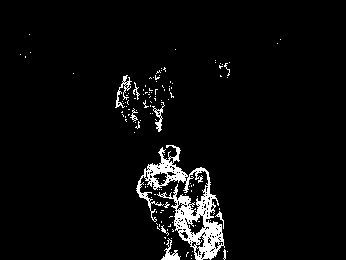person: (133, 145, 182, 259), (177, 166, 227, 260), (143, 66, 172, 132), (116, 74, 140, 131)
